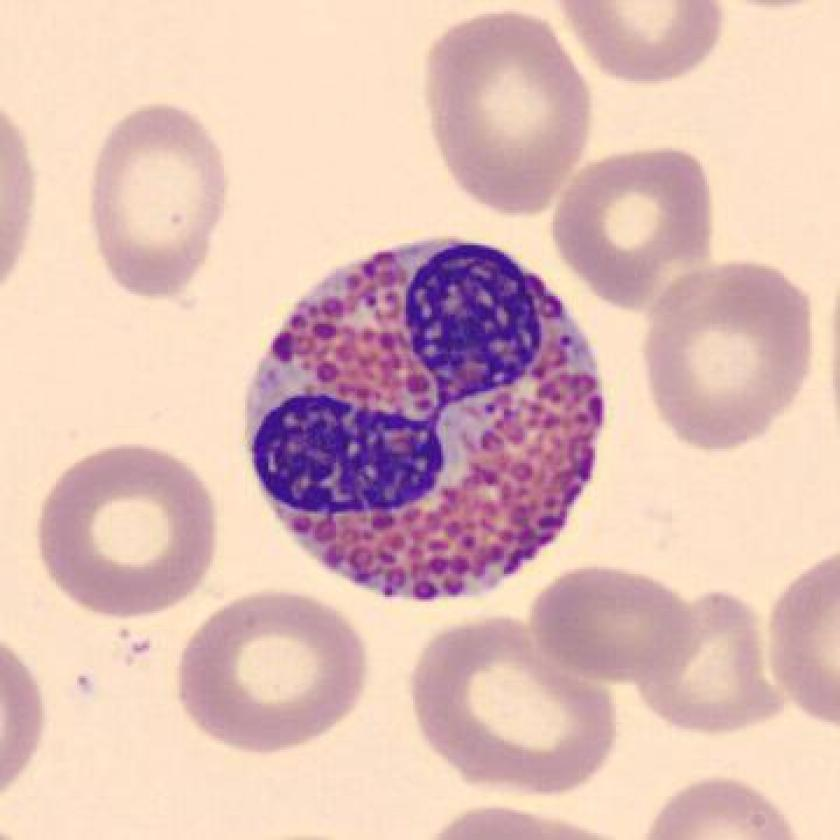eosinophil: (232, 230, 624, 619)
